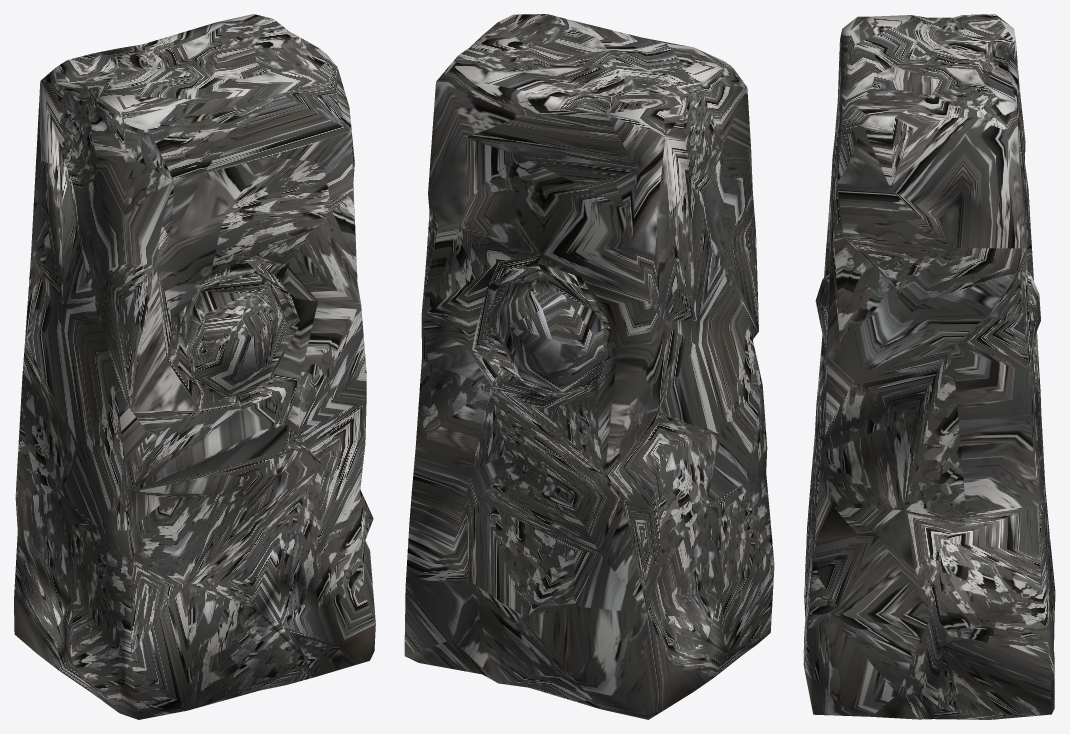
Rendered from Ancient_Stone_Relic.glb.
3 views of the same model, side by side, from view 1: azimuth 30°, elevation 25°; view 2: azimuth 150°, elevation 25°; view 3: azimuth 270°, elevation 25° (orthographic).
Parts seen in each view (by area): view 1: Ancient_Stone_Relic; view 2: Ancient_Stone_Relic; view 3: Ancient_Stone_Relic.
Part boxes in pixels (x1=…): Ancient_Stone_Relic: x1=14, y1=14, x2=375, y2=719; Ancient_Stone_Relic: x1=404, y1=14, x2=774, y2=719; Ancient_Stone_Relic: x1=803, y1=14, x2=1055, y2=719.
Bounding box in the file's own units: 0.8732 × 1.9 × 0.7291.
1 material, 1 textured.
